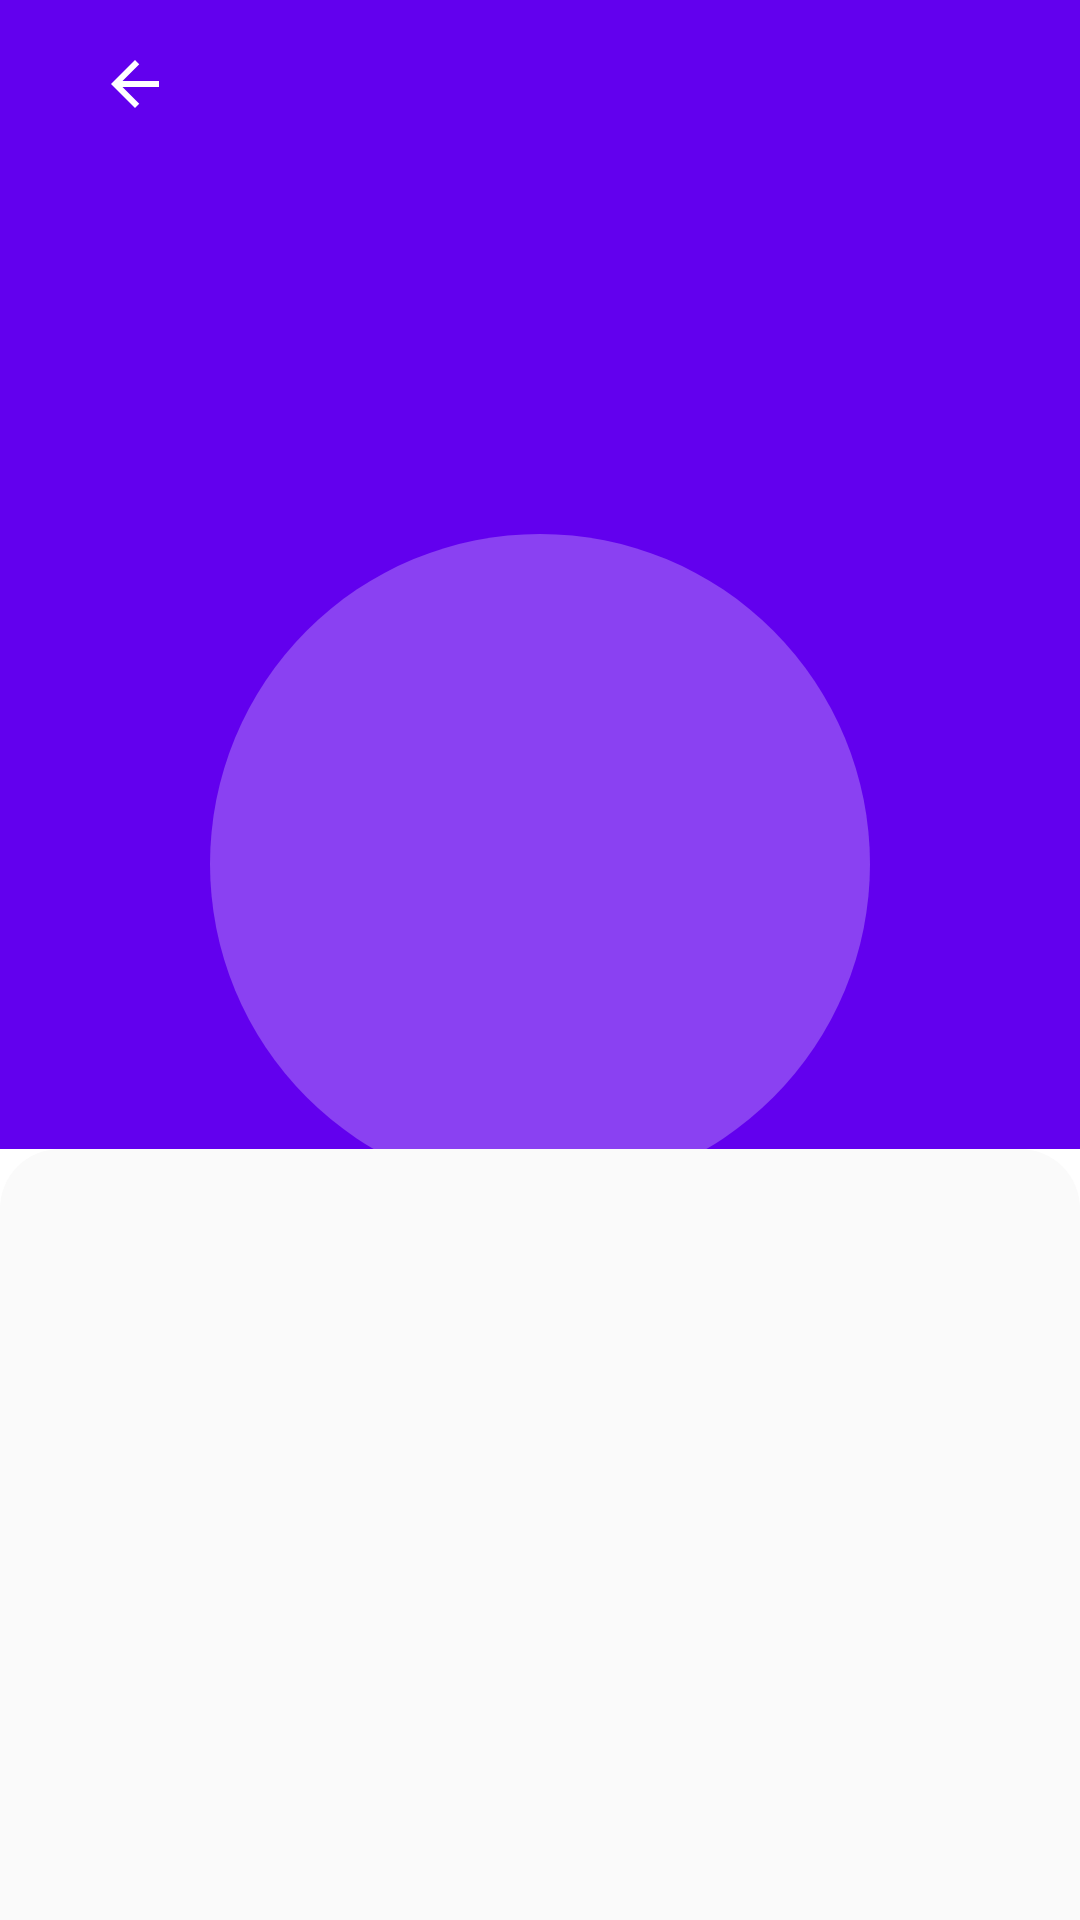

Icon bounding boxes for this 1080x1920 phone screenshot, format bbox(x1, y1, x2, y2):
arrow back: bbox(111, 60, 159, 108)
